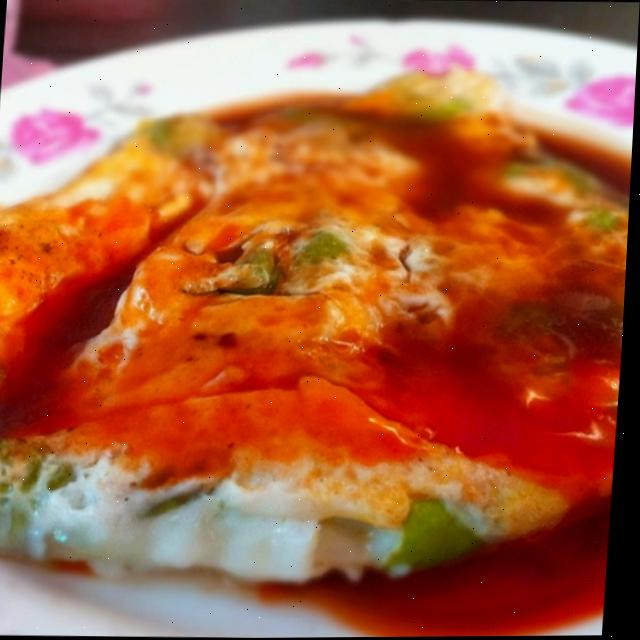熟制海鲜: (0, 27, 624, 624)
